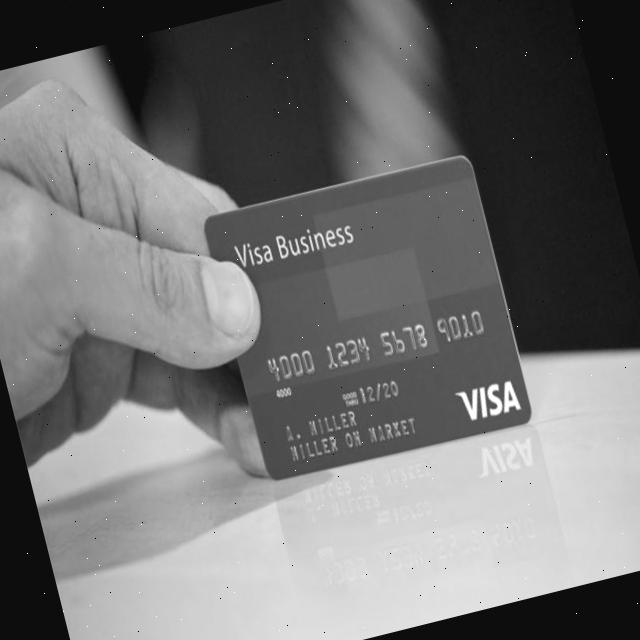card: (197, 148, 544, 494)
